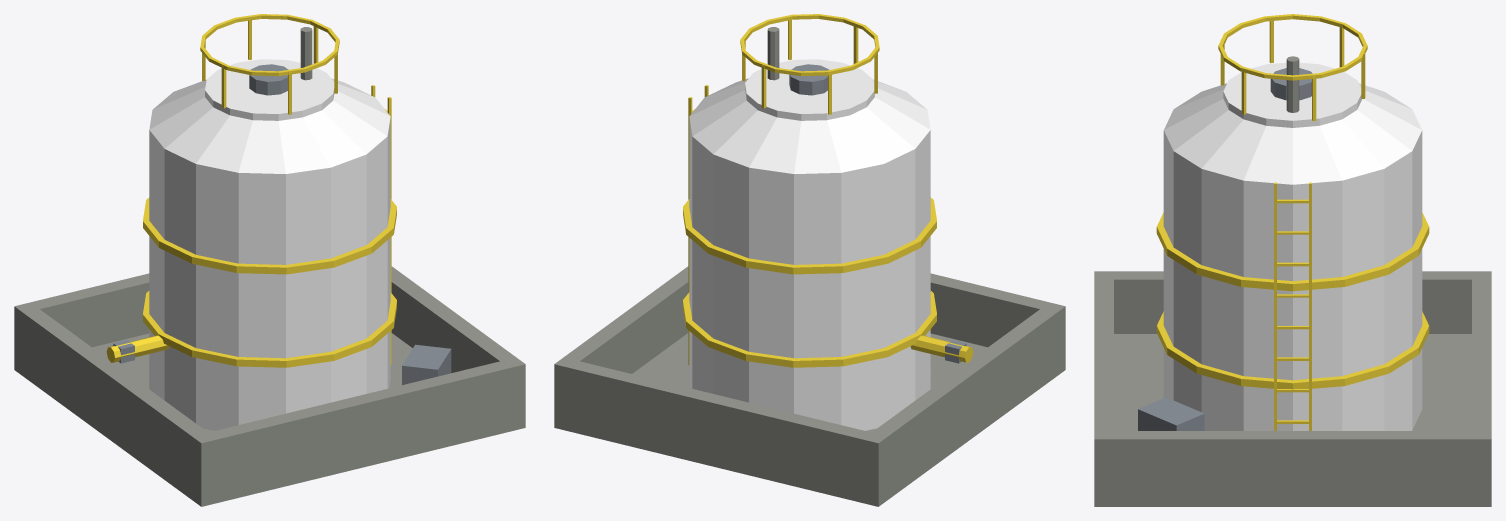
The model's file is site_tank.fbx.
3 renders of one model, left to right at view 1: azimuth 30°, elevation 25°; view 2: azimuth 150°, elevation 25°; view 3: azimuth 270°, elevation 25°, orthographic. The views are drawn at different scales.
Visible parts, largest first — view 1: a1063/0/site_tank; view 2: a1063/0/site_tank; view 3: a1063/0/site_tank.
Part boxes in pixels (left/top/right/bottom): a1063/0/site_tank: left=14, top=14, right=525, bottom=506; a1063/0/site_tank: left=554, top=14, right=1065, bottom=506; a1063/0/site_tank: left=1094, top=14, right=1491, bottom=506.
Size of the model in its own units: 8 by 8.5 by 8.
